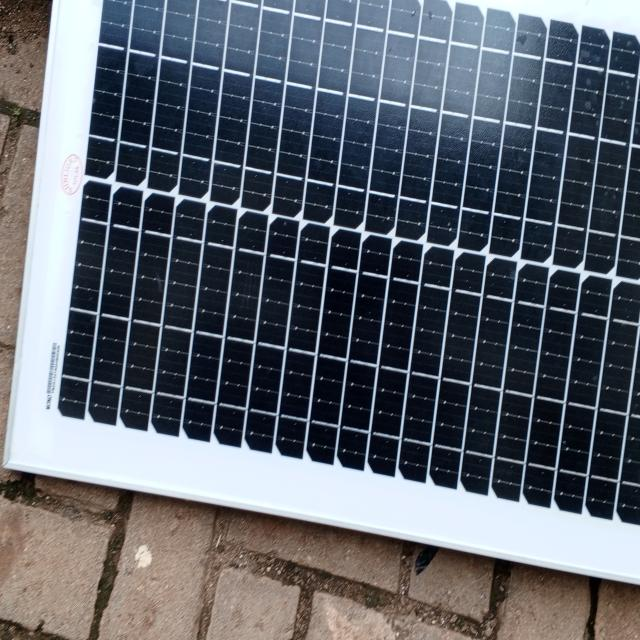Clean: (94, 0, 640, 489)
